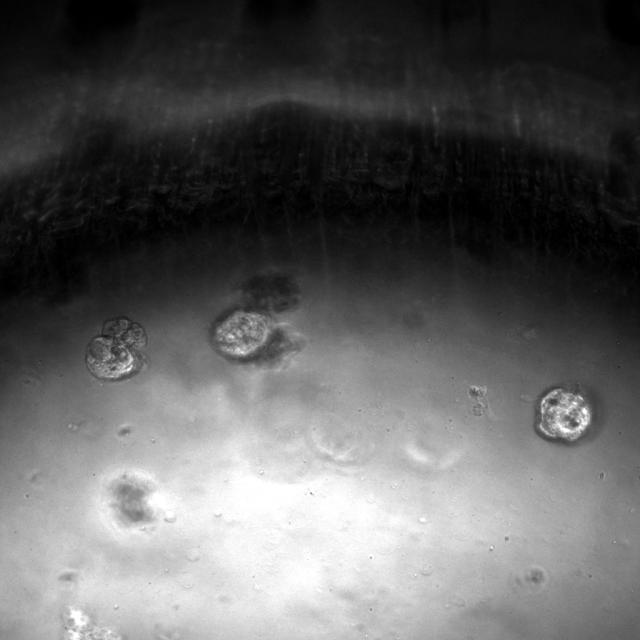organoid: (209, 273, 304, 368), (86, 316, 147, 380), (534, 386, 594, 443), (105, 472, 154, 527), (64, 607, 122, 639), (468, 385, 486, 415)
